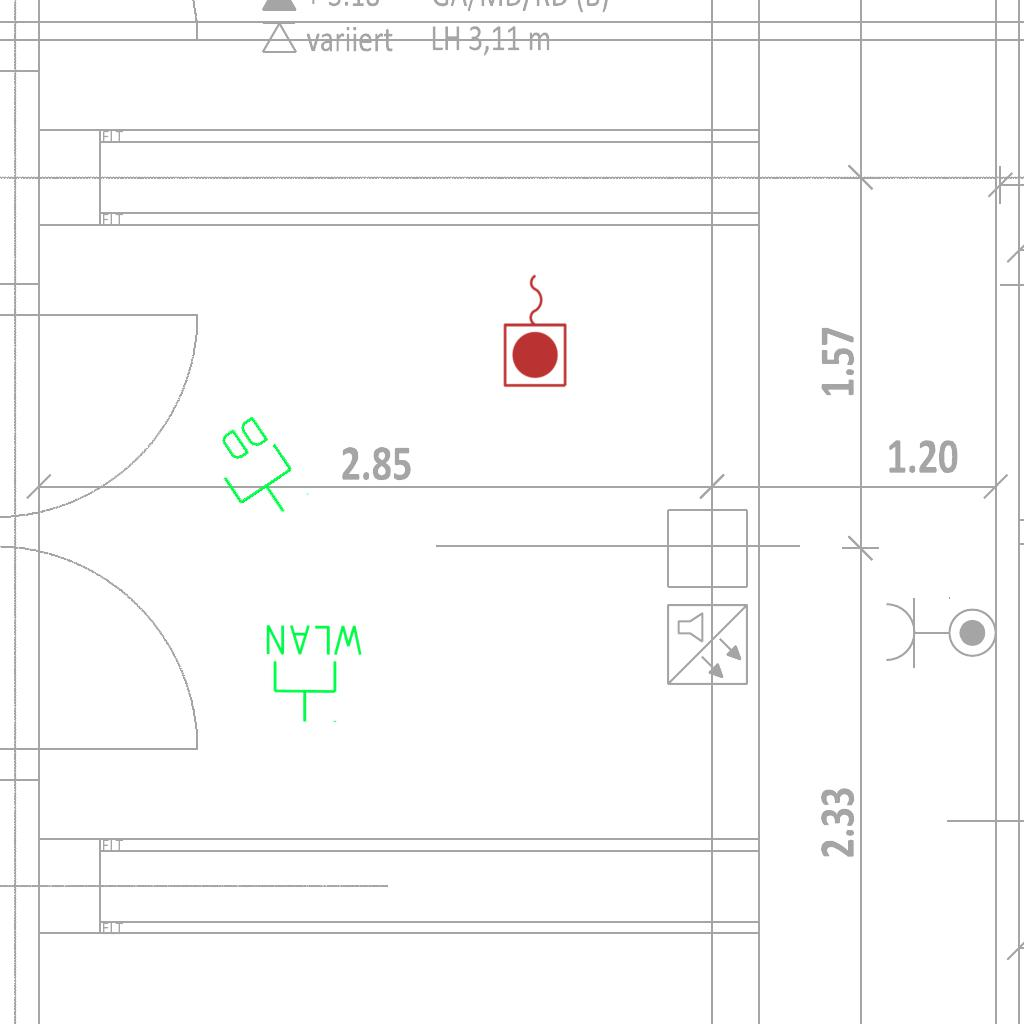Datenanschluss_zweifach: (199, 408, 314, 533)
WLAN: (262, 621, 367, 725)
Zugtaster: (500, 269, 572, 391)
